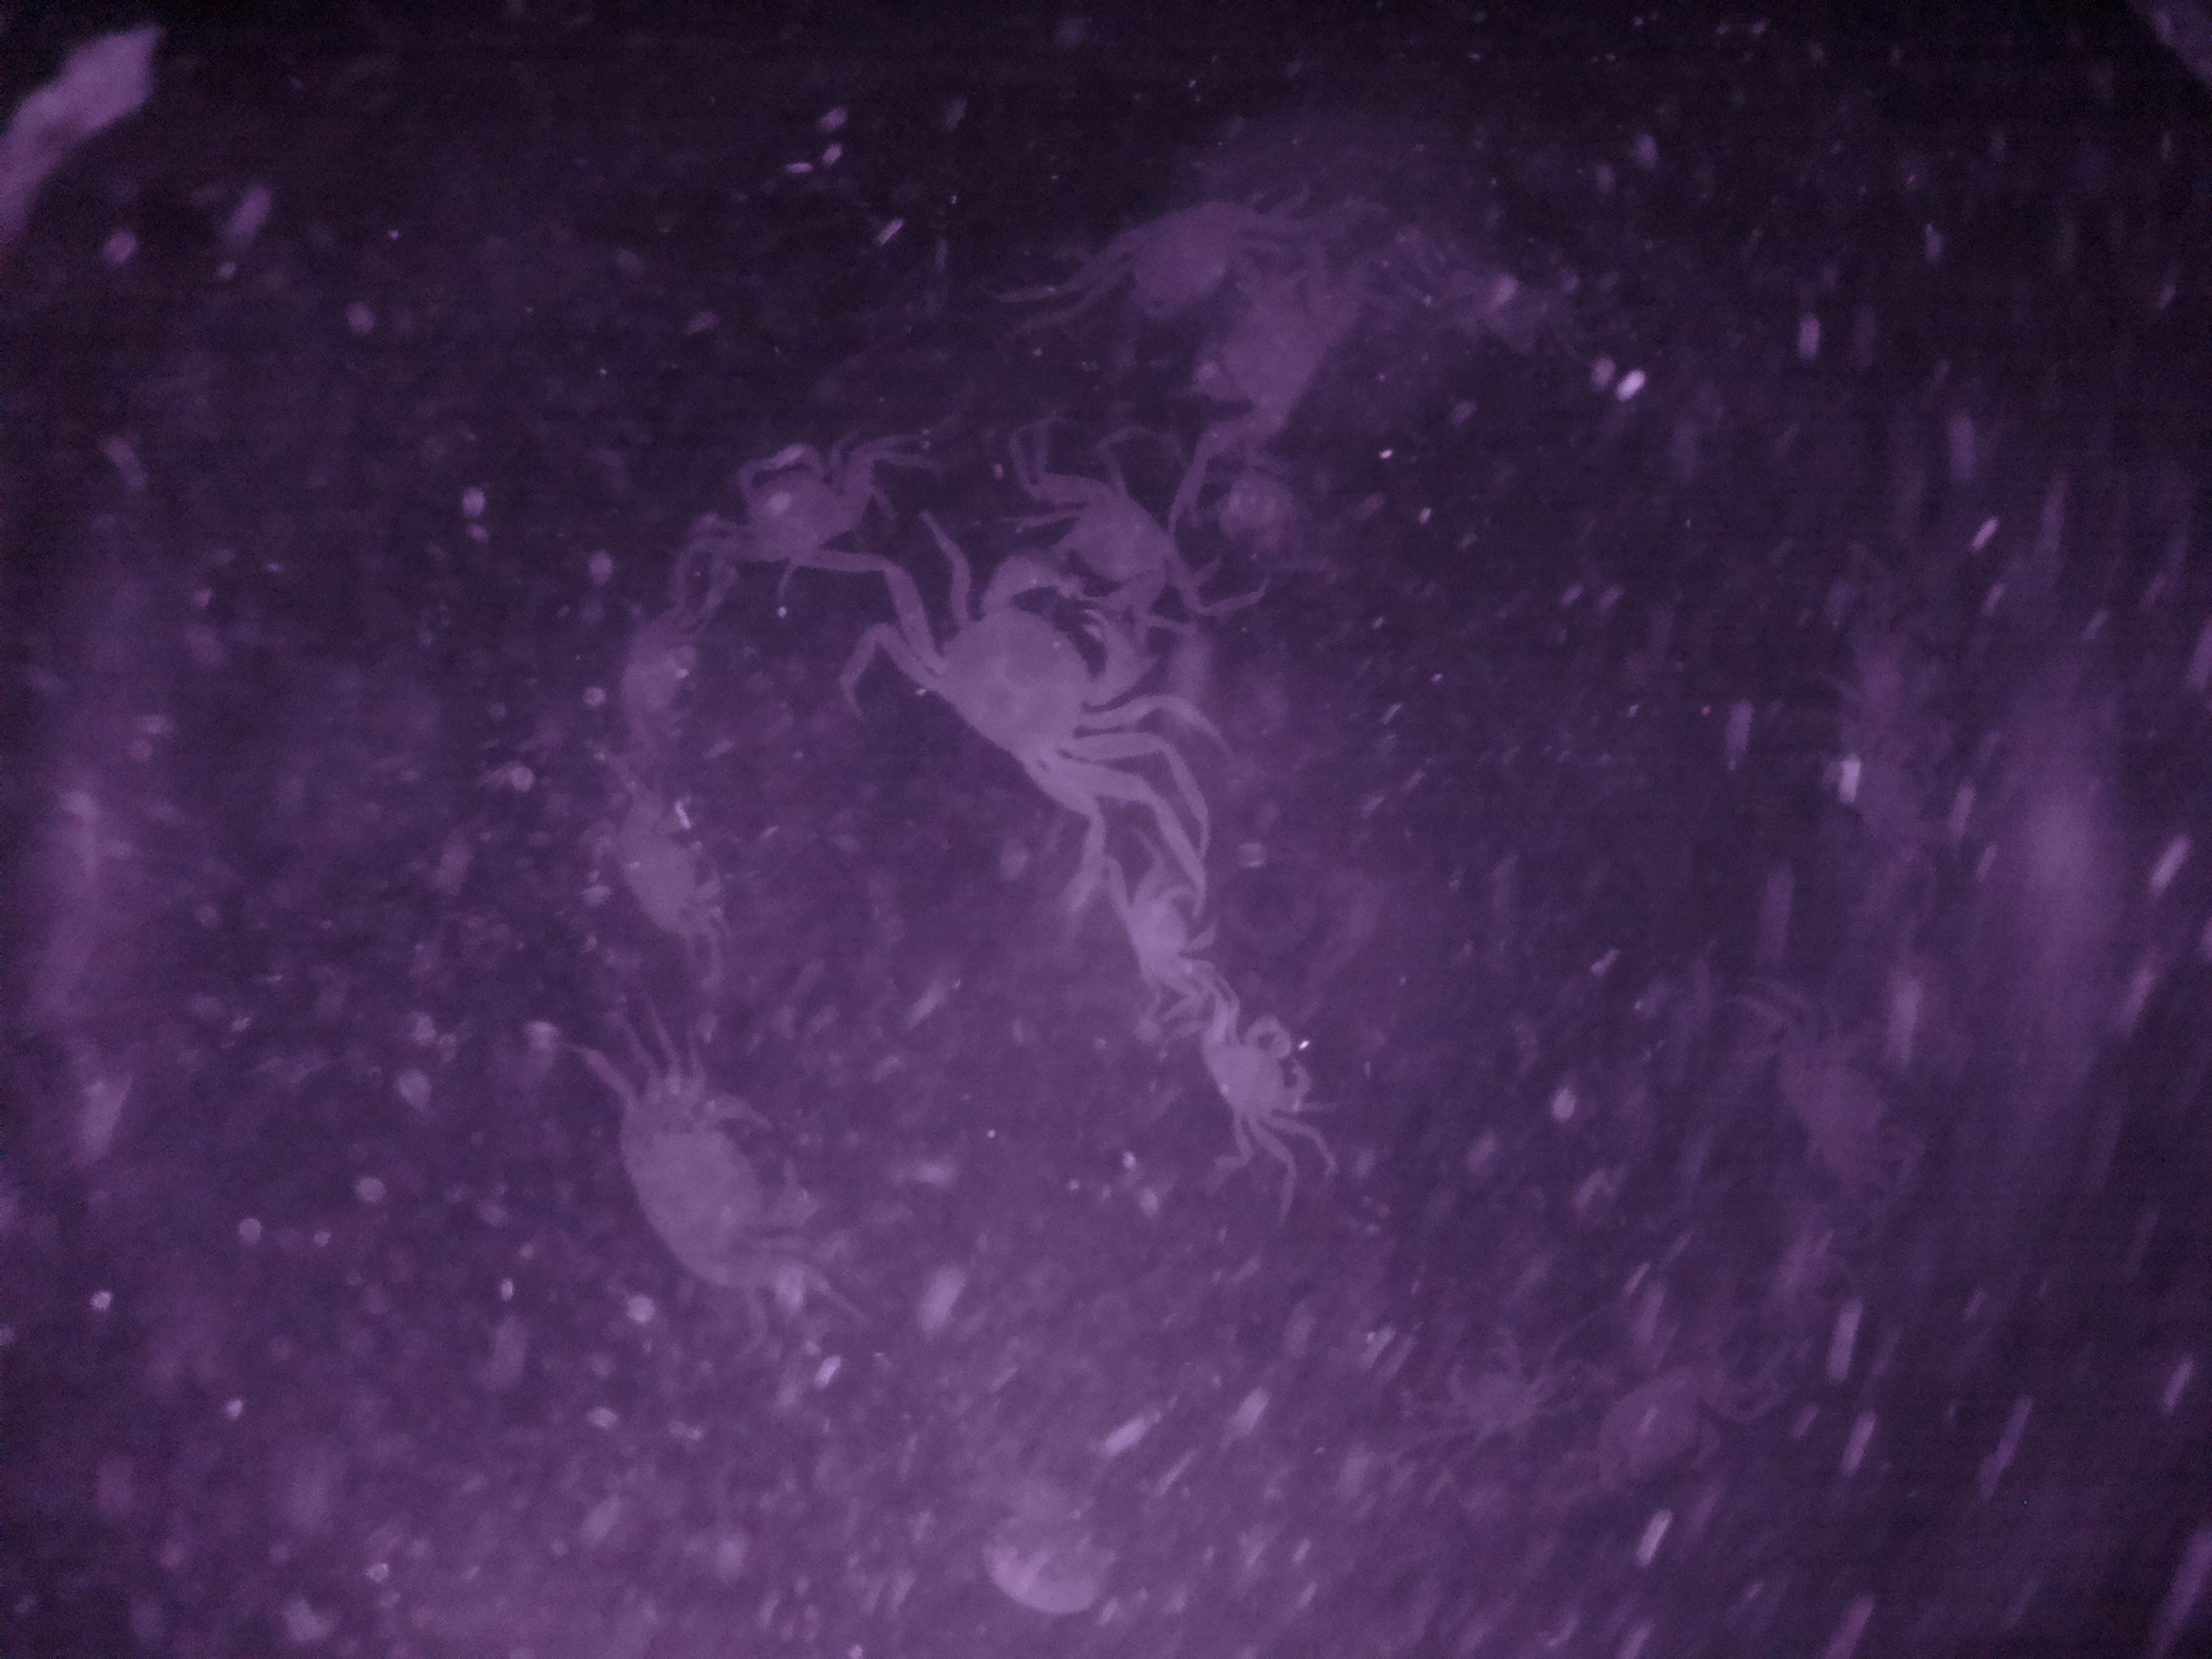Crab: (874, 556, 1163, 810), (1183, 988, 1329, 1148)
